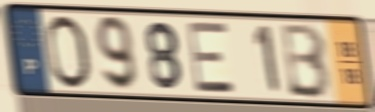1: (251, 23, 282, 97)
8: (144, 18, 185, 93)
9: (92, 14, 141, 94)
B: (280, 21, 334, 102)
E: (184, 20, 238, 95)
O: (44, 13, 94, 92)
